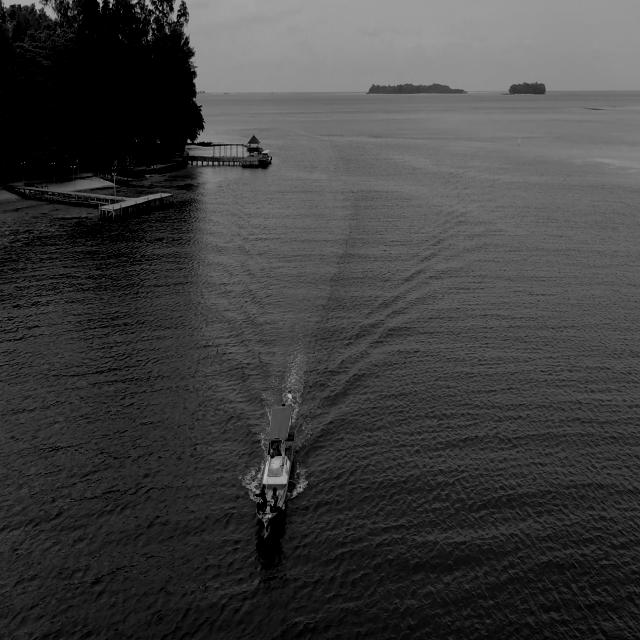ship: (246, 400, 307, 554)
